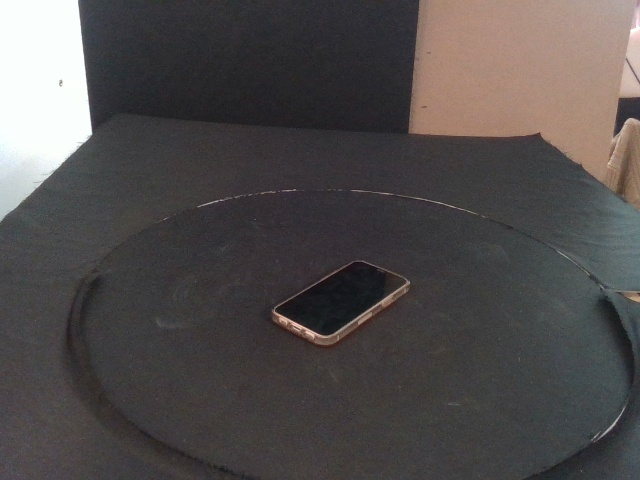phone: (270, 259, 410, 346)
